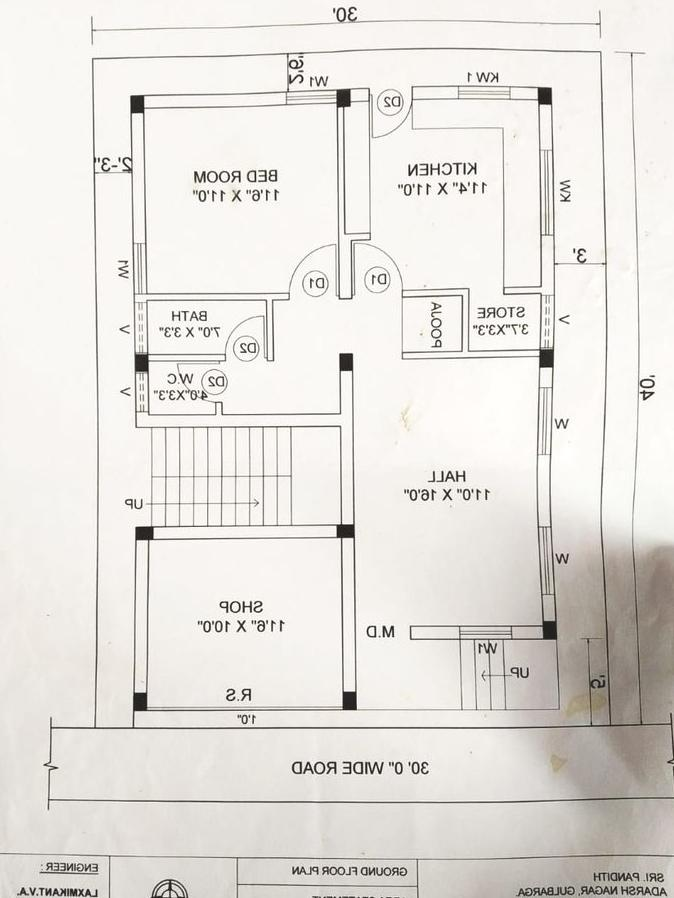Blueprint: (119, 79, 564, 718)
wall: (135, 412, 340, 428), (153, 524, 337, 540), (132, 540, 150, 694), (144, 91, 287, 110), (338, 232, 371, 300), (340, 370, 354, 524), (342, 537, 355, 692), (132, 112, 147, 244), (400, 347, 540, 361), (132, 293, 290, 300), (538, 236, 556, 296), (338, 108, 346, 235), (538, 454, 552, 526), (409, 625, 460, 640), (411, 85, 459, 100), (148, 354, 226, 363), (538, 104, 552, 151), (265, 299, 274, 362), (461, 292, 470, 352), (512, 625, 542, 640), (540, 594, 556, 621), (403, 290, 472, 296), (508, 87, 538, 100), (538, 366, 554, 388), (350, 88, 369, 102)
